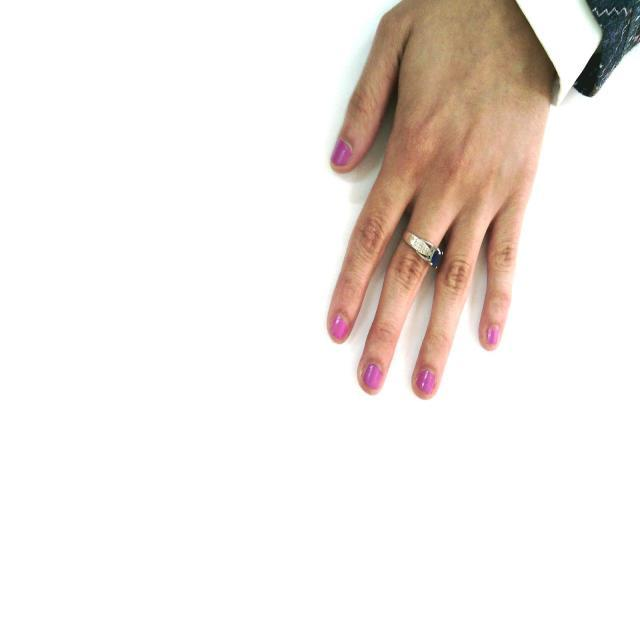Fingernail: (332, 140, 351, 165), (364, 363, 382, 388), (417, 369, 435, 394), (331, 315, 347, 341), (487, 326, 499, 345)
